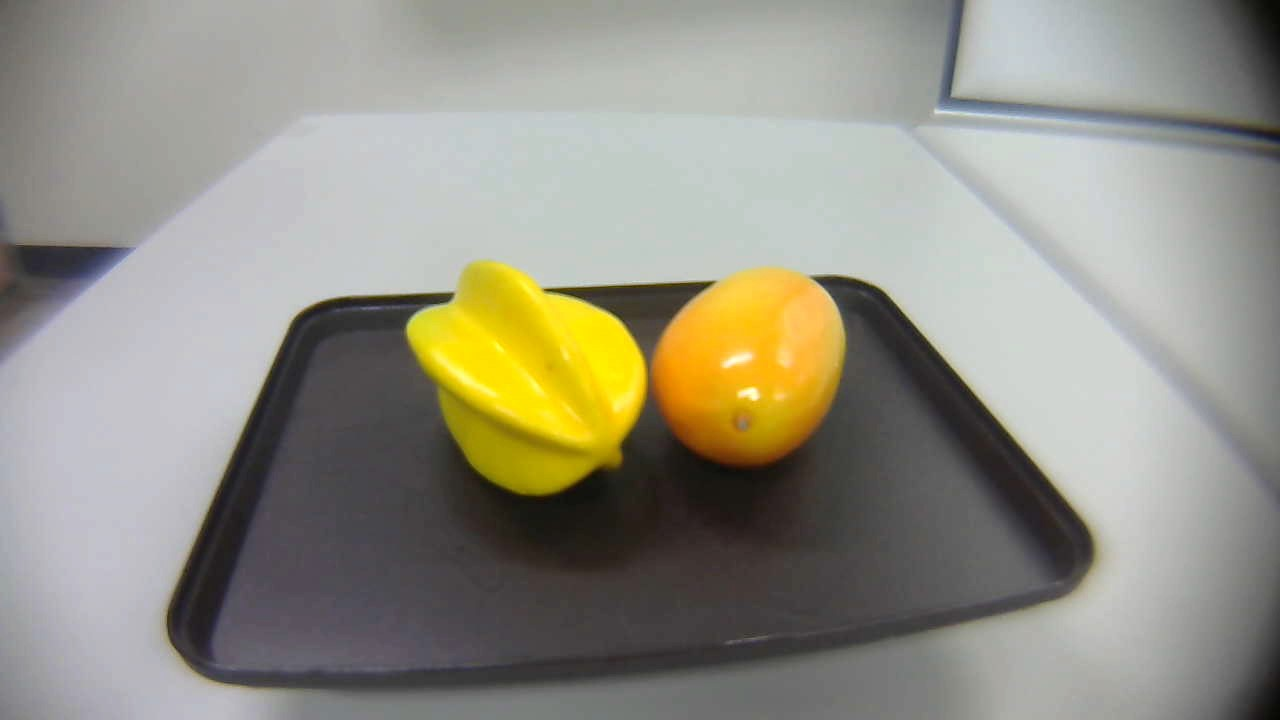star fruit: (389, 250, 651, 514)
yellow mango: (644, 261, 852, 471)
